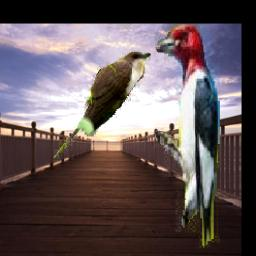Cuckoo: (52, 50, 152, 161)
Woodpecker: (154, 25, 219, 248)
